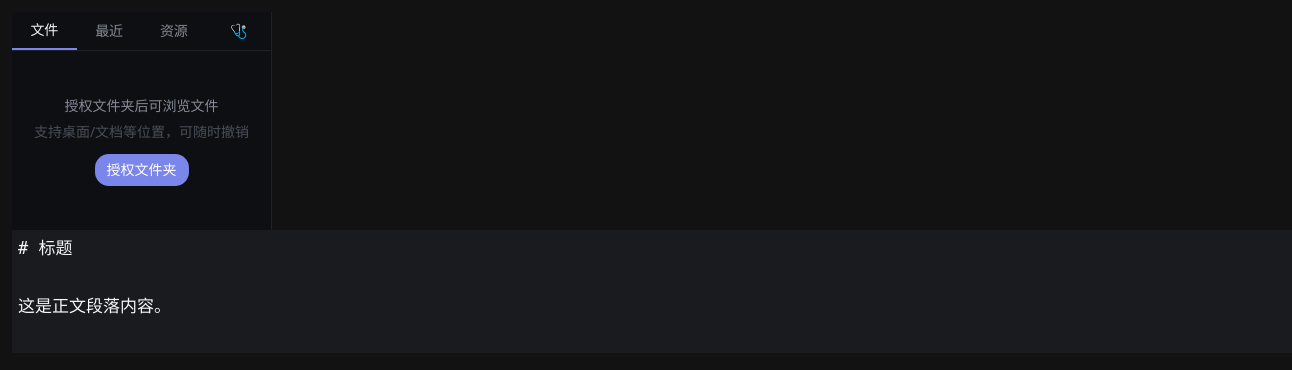
Test case: StructurePanel › renders empty state when no diagnostics
Click the tab with test id "left-rail-tab-structure": {"x": 239, "y": 31} [206, 12, 271, 50]
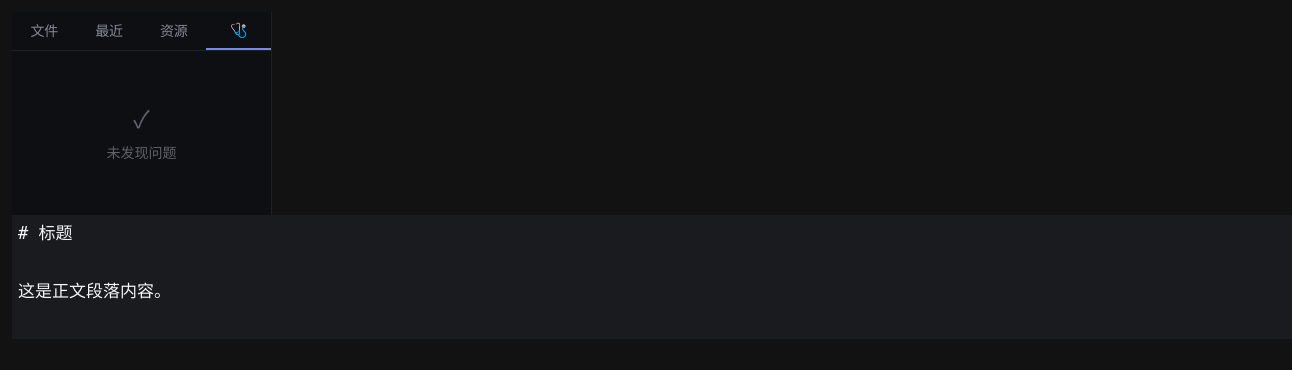
Expected: the element with test id "structure-panel-empty" is shown, [106, 102, 176, 162]
